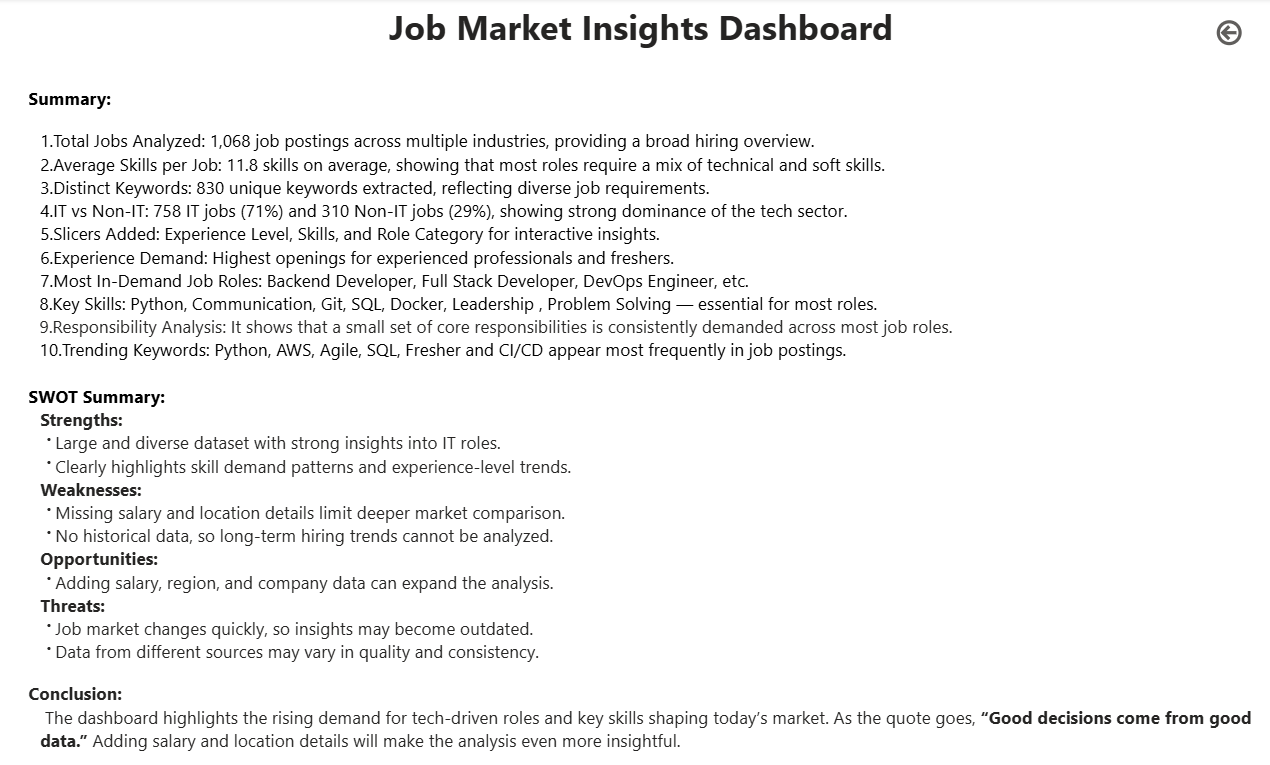

The page's visual inventory and layout, read from the dashboard file:
{"tool":"powerbi","page":{"name":"Summary","canvas":[1280,720],"ordinal":3},"visuals":[{"type":"textbox","box":[32,0,1216,720],"z":0},{"type":"actionButton","box":[1168,16,32,32],"z":1000}]}

Visuals, with their boxes on the page's 1280x720 design canvas (x1, y1, x2, y2). These are canvas units, not pixel positions in the 1270x765 screenshot, which may show the page scaled, cropped or inside an application window:
textbox: bbox(32, 0, 1248, 720)
actionButton: bbox(1168, 16, 1200, 48)
